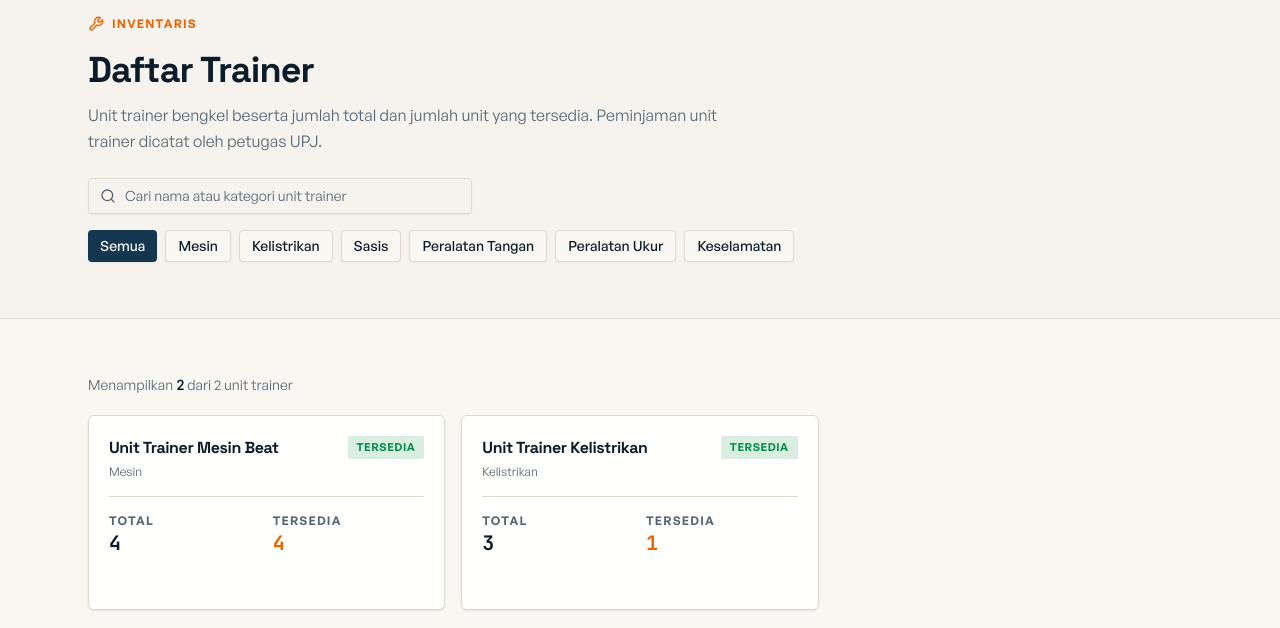
Trainer list (pengunjung tanpa login) › filters by search text
This screenshot has width=1280, height=628.
Check: the heading "Unit Trainer Mesin Beat" is shown, box [109,436,279,460]
In the search field with test id "trainer.search_input": (280, 196) [88,178,472,214], type "Kelistrikan"
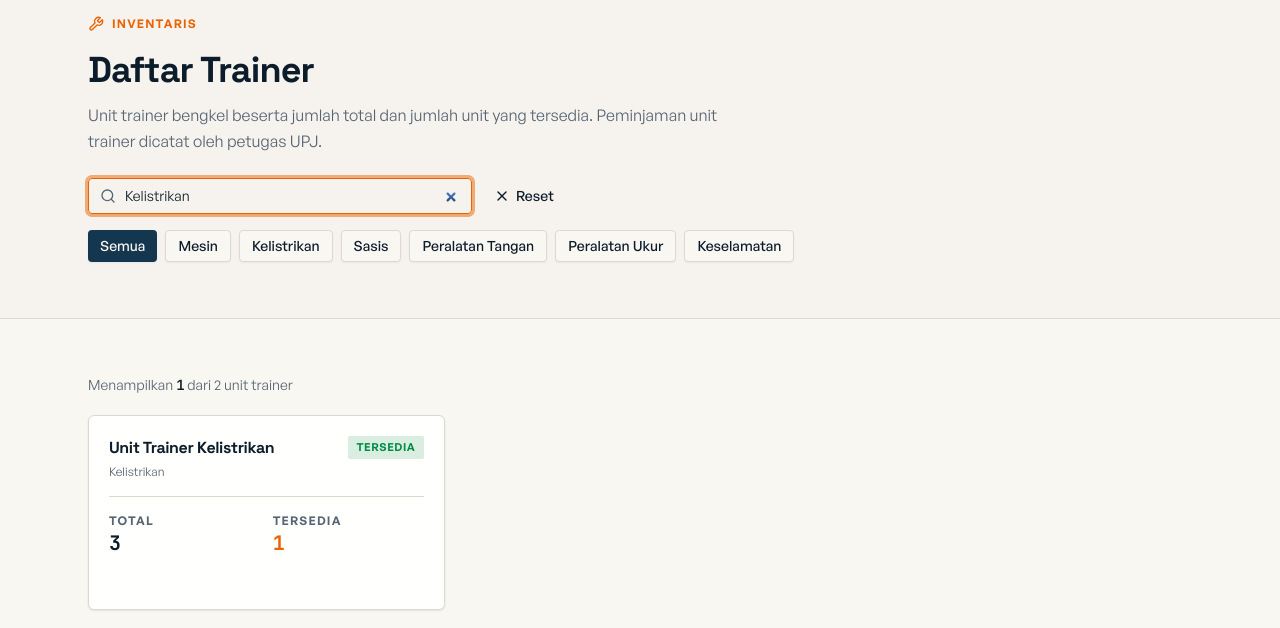
Check: the heading "Unit Trainer Kelistrikan" is shown, box [109,436,274,460]
Check: the link "Unit Trainer Mesin Beat" is gone
